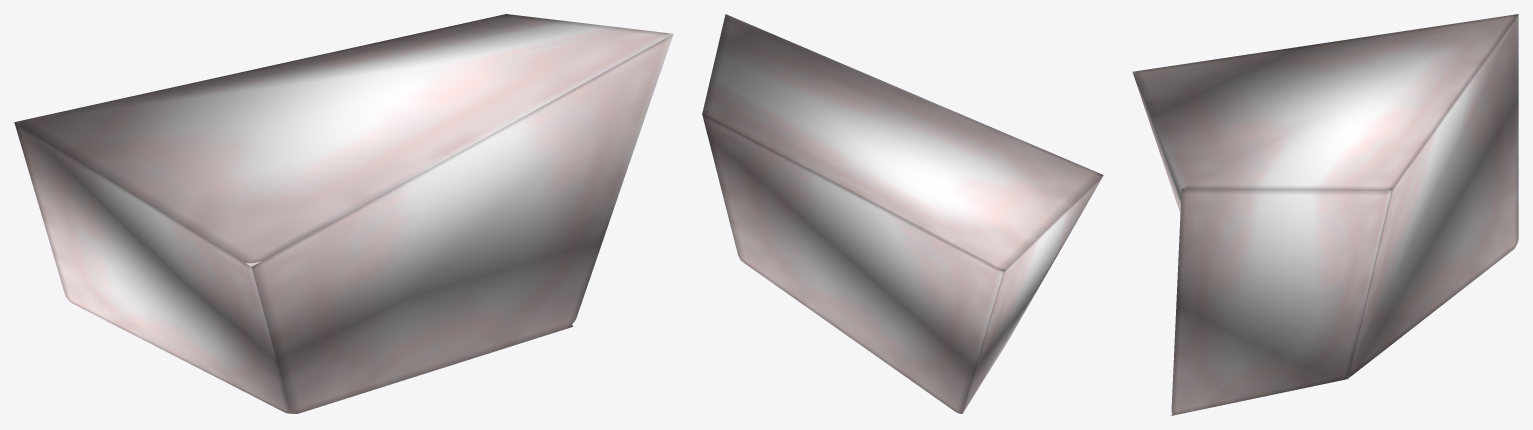
The picture shows the model from 3 angles, left to right: view 1: azimuth 30°, elevation 25°; view 2: azimuth 150°, elevation 25°; view 3: azimuth 270°, elevation 25°; orthographic projection. The views are drawn at different scales.
Parts seen in each view (by area): view 1: T1L4M008_12; view 2: T1L4M008_12; view 3: T1L4M008_12.
Boxes of the visible parts, x1,y1,x2,y2 form: T1L4M008_12: [14, 14, 673, 413]; T1L4M008_12: [702, 14, 1103, 413]; T1L4M008_12: [1132, 14, 1518, 415].
Size of the model in its own units: 0.2334 by 0.1357 by 0.1455.
